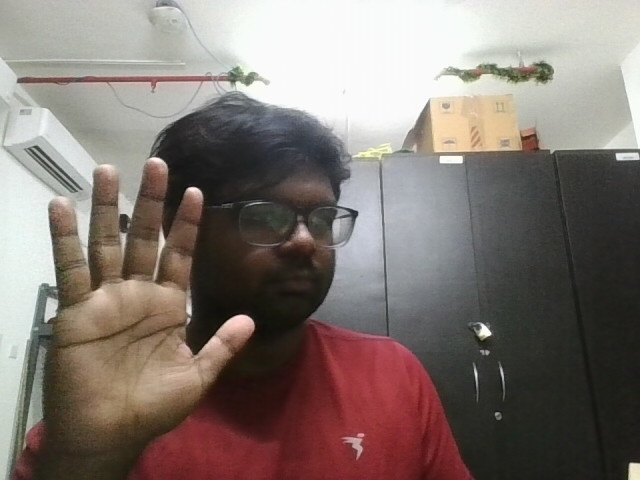Hello: (31, 151, 262, 468)
